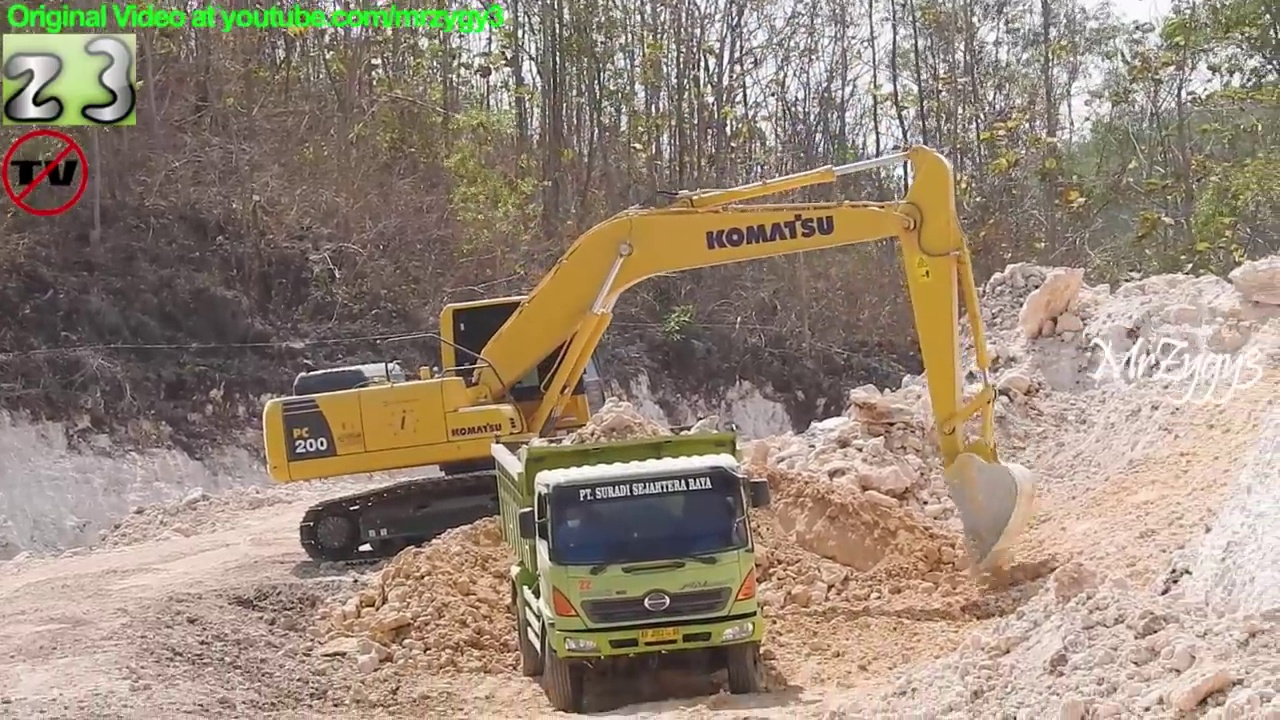excavator: (257, 141, 1043, 583)
truck: (486, 419, 777, 717)
